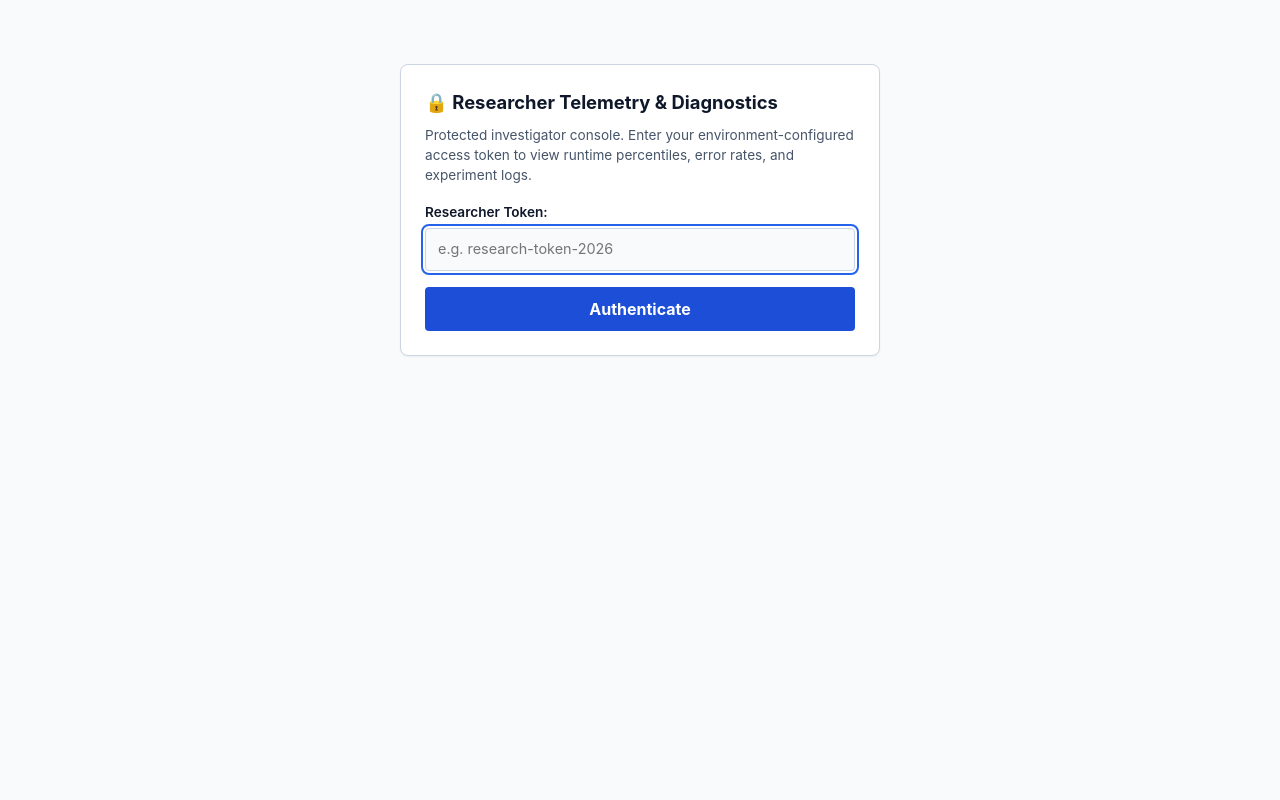
Part 4 Advanced Features Test Suite › 12. Researcher page protects telemetry behind token and shows latency percentiles and error metrics
Check: the text "Protected investigator console" is shown, box [425,127,854,183]
Step 1. Type "research-token-2026" into the password field labelled "Researcher Token:" → (640, 249), box [425,228,855,271]
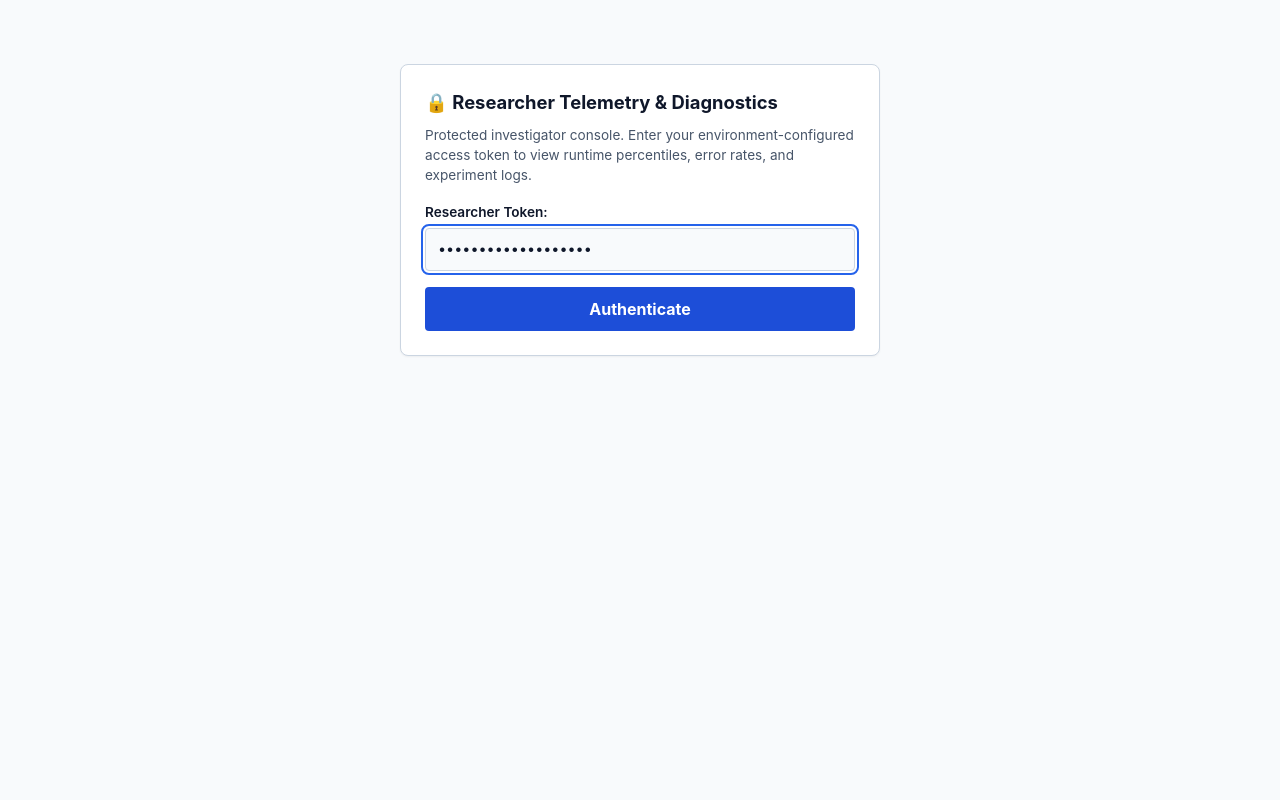
Step 2. Click the button "Authenticate" → (640, 309), box [425,286,855,331]
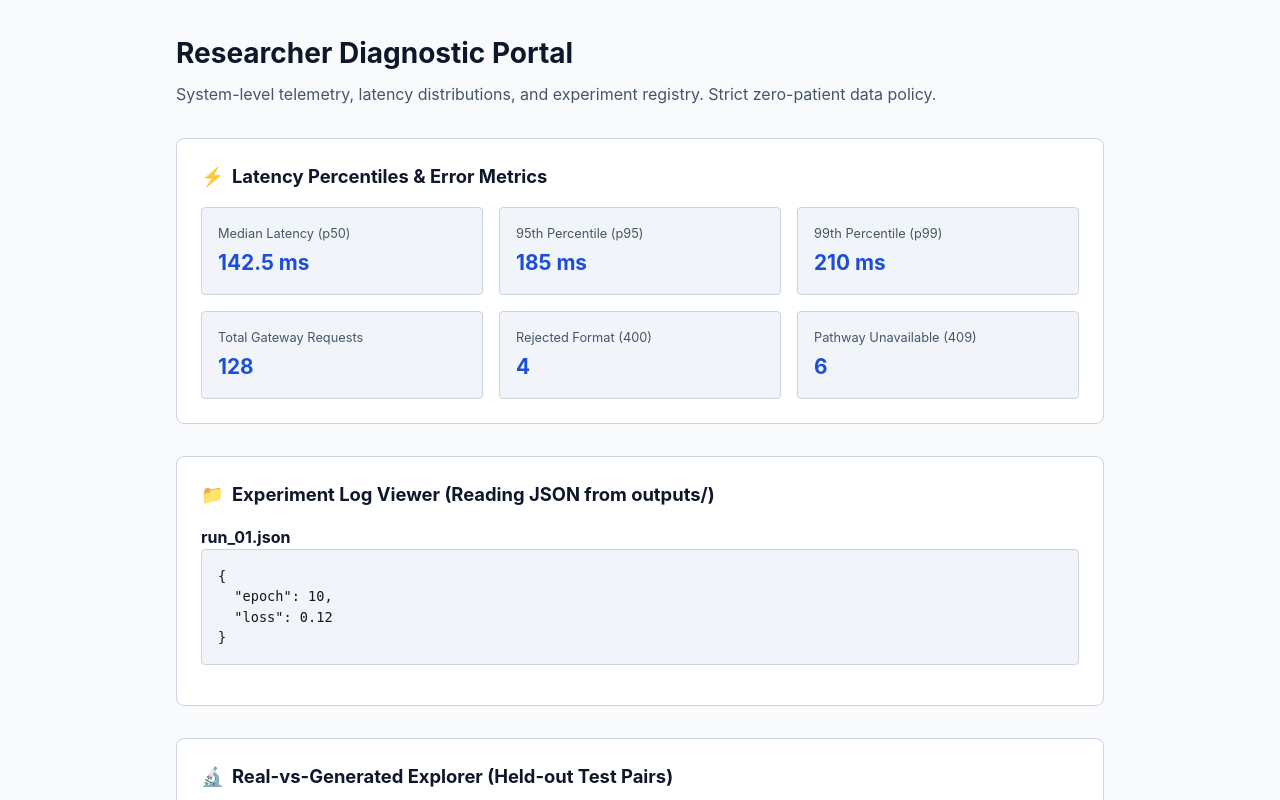
Check: the text "142.5 ms" is shown, box [218,250,310,275]
Check: the text "185 ms" is shown, box [516,250,587,275]
Check: the text "128" is shown, box [218,354,254,379]
